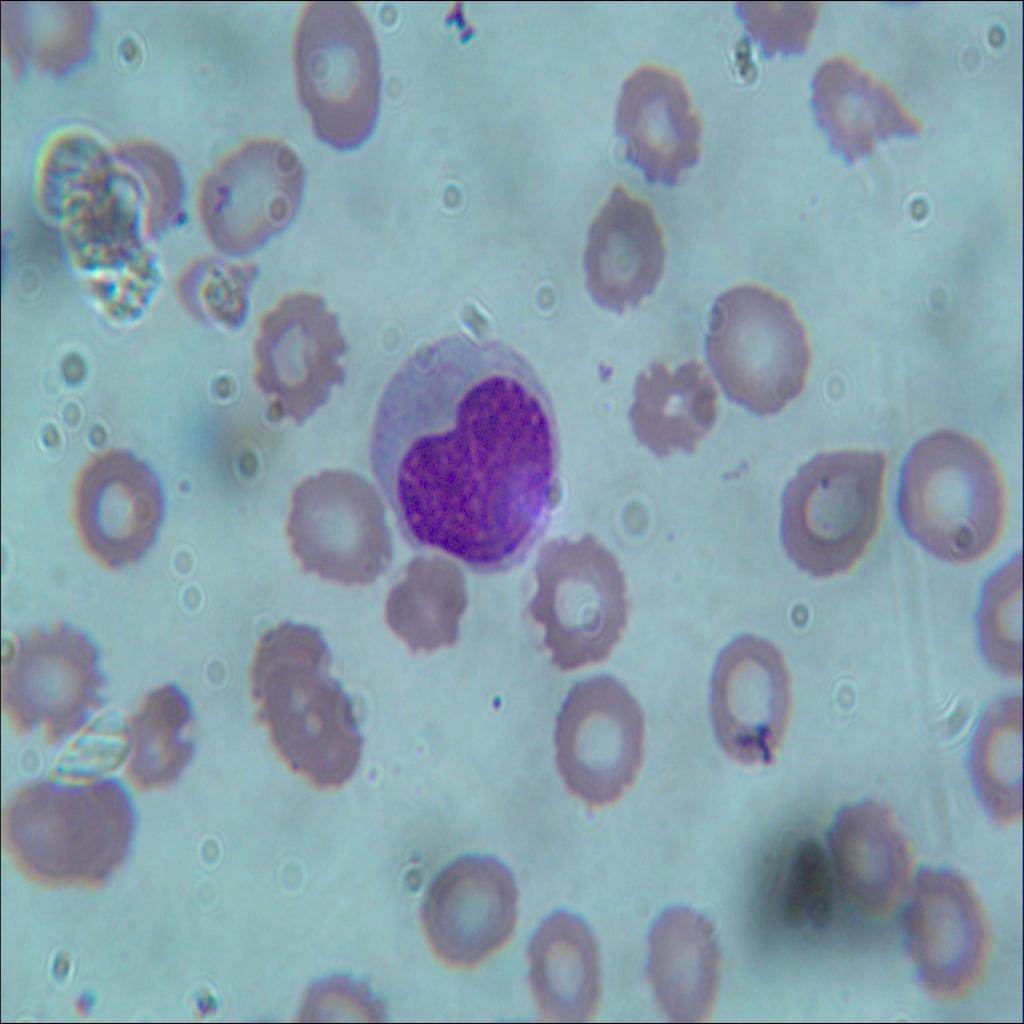Eritrosit: (894, 419, 1004, 571), (776, 438, 884, 591), (0, 766, 141, 879), (794, 58, 928, 172), (248, 282, 354, 426), (533, 532, 635, 674), (276, 461, 389, 589), (576, 186, 686, 316), (544, 682, 651, 812), (291, 2, 383, 153), (695, 625, 788, 772), (201, 131, 309, 257), (708, 284, 808, 419), (0, 616, 109, 738), (898, 865, 994, 998), (635, 885, 726, 1023), (410, 852, 522, 962), (73, 445, 163, 572), (518, 897, 608, 1023), (611, 67, 703, 189), (276, 655, 359, 788), (118, 677, 204, 802), (84, 138, 184, 245), (382, 554, 474, 668), (826, 788, 914, 906), (242, 609, 328, 728), (626, 352, 716, 462), (963, 692, 1023, 825), (973, 548, 1023, 681)
Limfoblast: (368, 334, 559, 572)
Platelet: (475, 684, 518, 734), (66, 978, 112, 1023), (174, 471, 199, 508)
